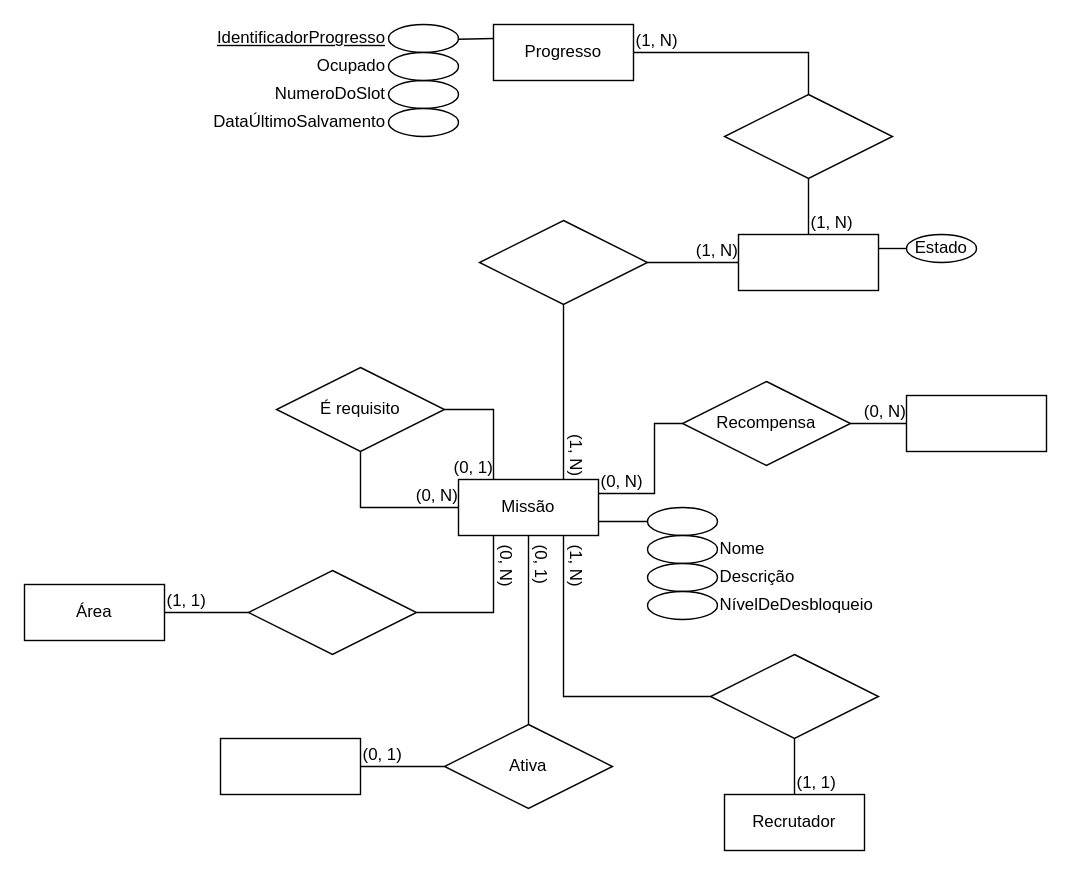
The diagram is 1071 pixels wide and 875 high, and some of its shapes have lost their labels. The box of each missing label's shape, as (x1, y1, x2, y2) in pixels:
EstadoMissão: (737, 233, 878, 290)
Está associada: (723, 93, 892, 178)
IdentificadorMissão: (646, 506, 718, 536)
Item: (905, 394, 1046, 451)
Oferece: (709, 653, 878, 738)
Possui Estado: (478, 219, 648, 304)
ÁreaInterativa: (219, 737, 360, 794)
É realizada em: (247, 569, 416, 654)
